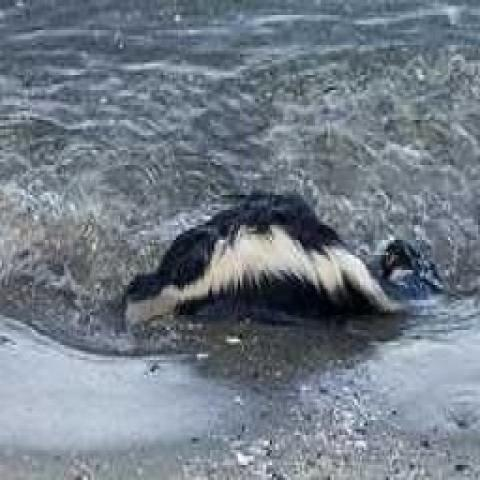small_animal: (116, 187, 446, 332)
